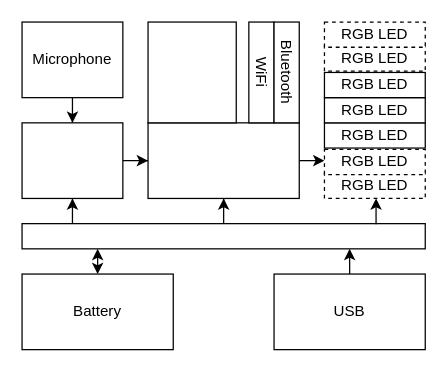
Some shapes in this 447 by 372 pixel diagram are drawn without their labels. The box of each missing label's shape, as (x1, y1, x2, y2) in pixels:
Amplifier: (21, 122, 123, 198)
FFT Algorithm: (147, 21, 236, 123)
MCU: (147, 122, 299, 198)
Power: (21, 222, 425, 249)
